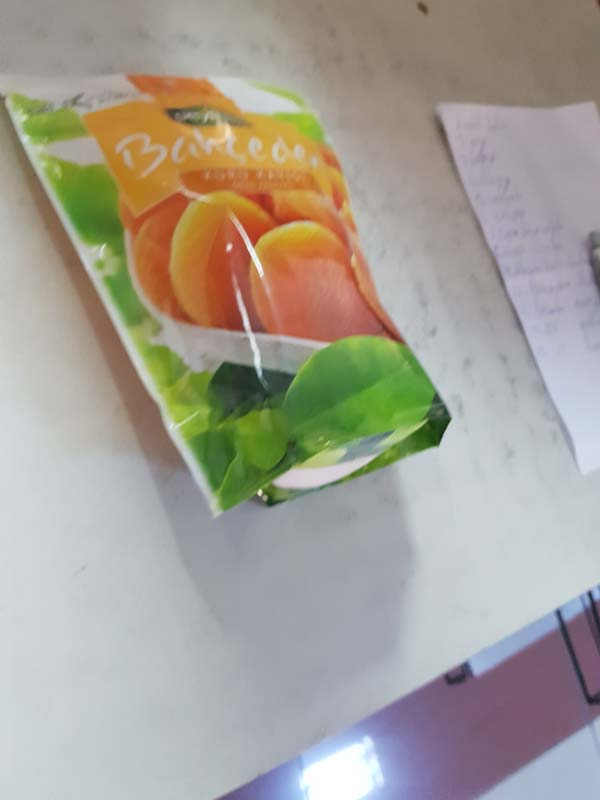bahcedenkurukayisi: (1, 61, 453, 513)
